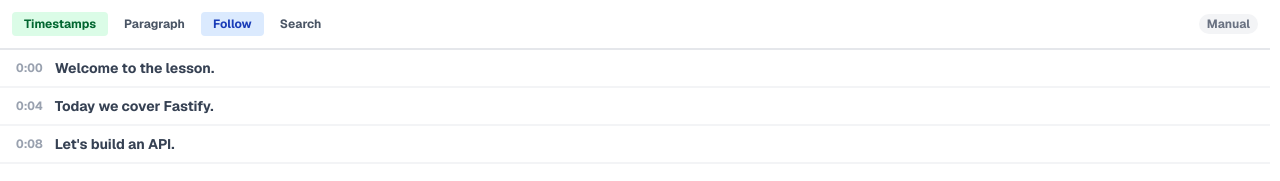
Test: TranscriptPanel — paragraph mode › switches to paragraph mode on button click
The width and height of the screenshot is (1280, 181).
Click the button "Paragraph" at (155, 24), box top-left (112, 12), bottom-right (197, 36)
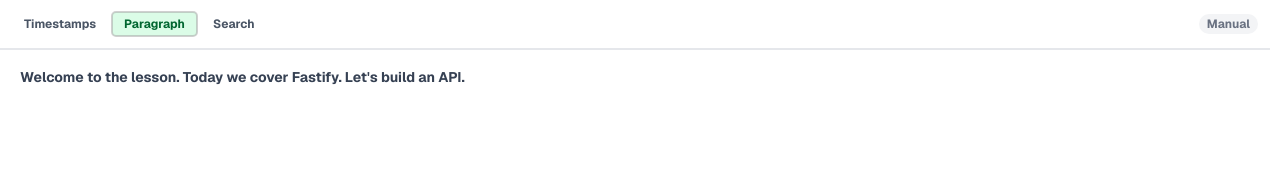
Check: the list named "Transcript paragraphs" is shown, box top-left (20, 68), bottom-right (465, 86)
